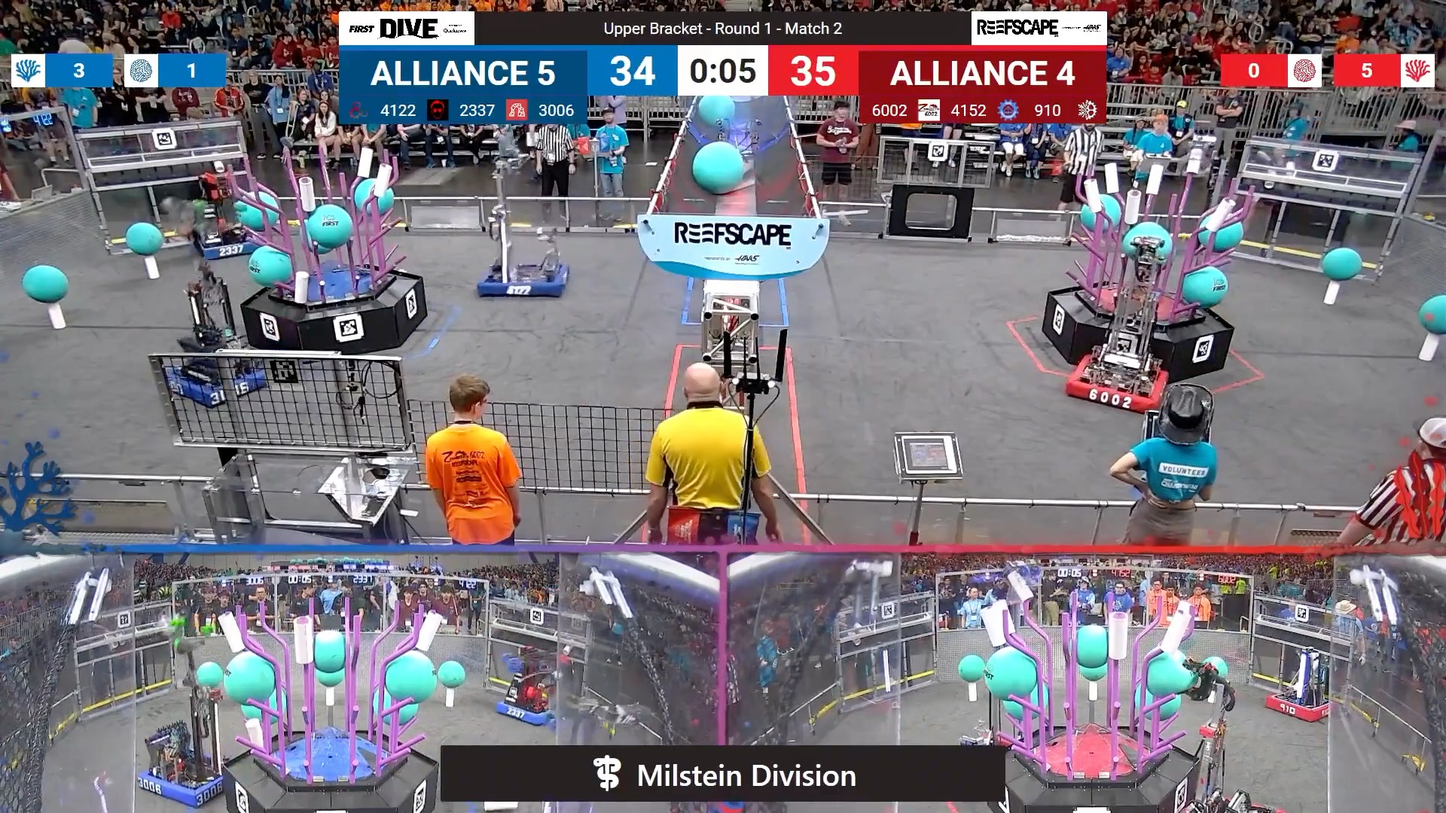bumpers: (1058, 349, 1179, 415), (158, 359, 274, 407), (132, 756, 234, 808), (474, 261, 573, 302), (1258, 692, 1341, 725), (490, 698, 564, 729), (185, 236, 267, 262)
